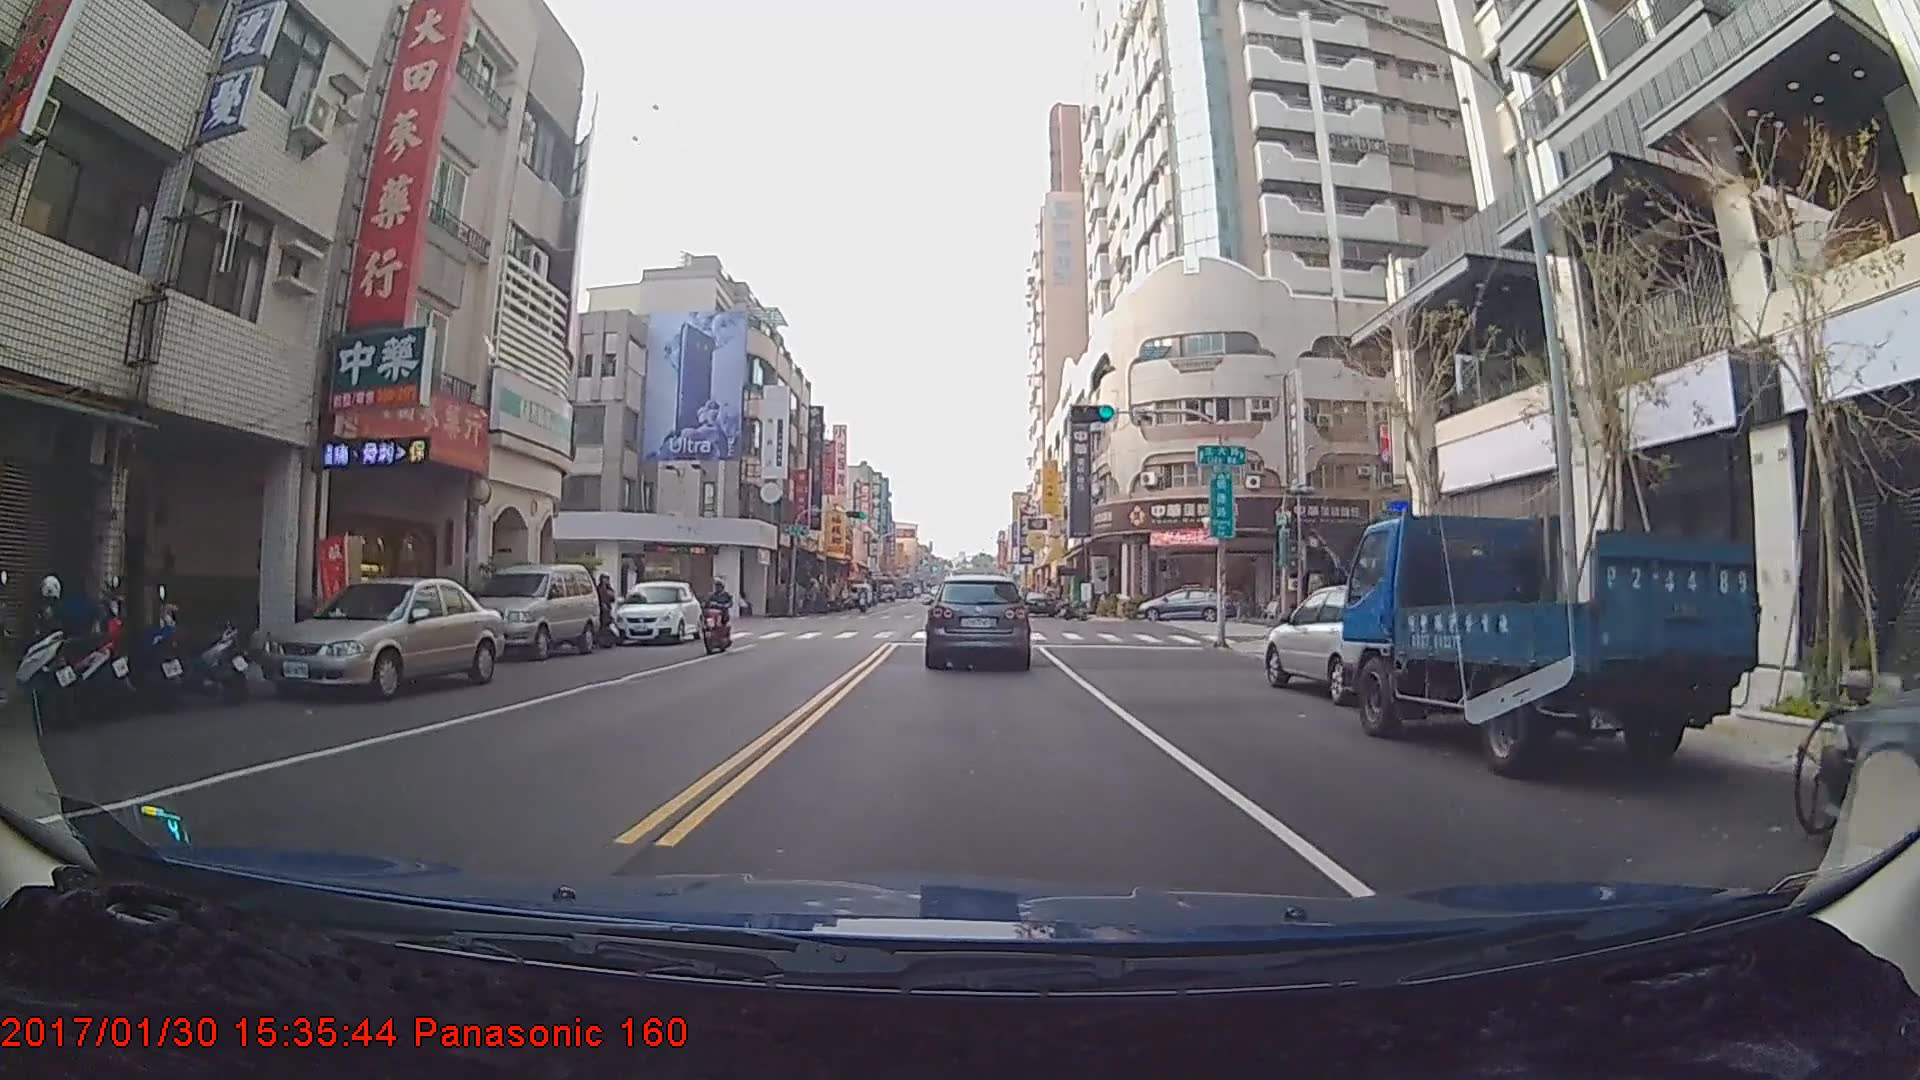rider: (700, 579, 738, 659)
vehicle: (1341, 509, 1762, 776), (255, 574, 503, 703), (1263, 581, 1430, 705), (457, 560, 601, 661), (926, 574, 1030, 669), (613, 579, 705, 646), (1135, 585, 1230, 621), (1021, 589, 1056, 616), (848, 579, 872, 606)
